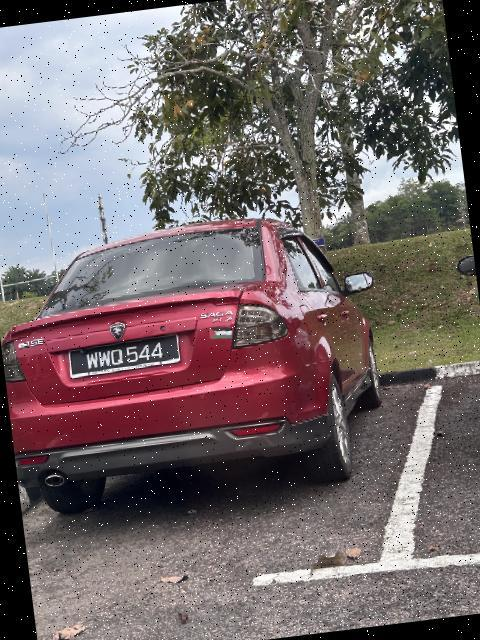License_Plate: (65, 335, 184, 380)
WWQ544: (65, 335, 184, 380)
car: (1, 200, 409, 529)
